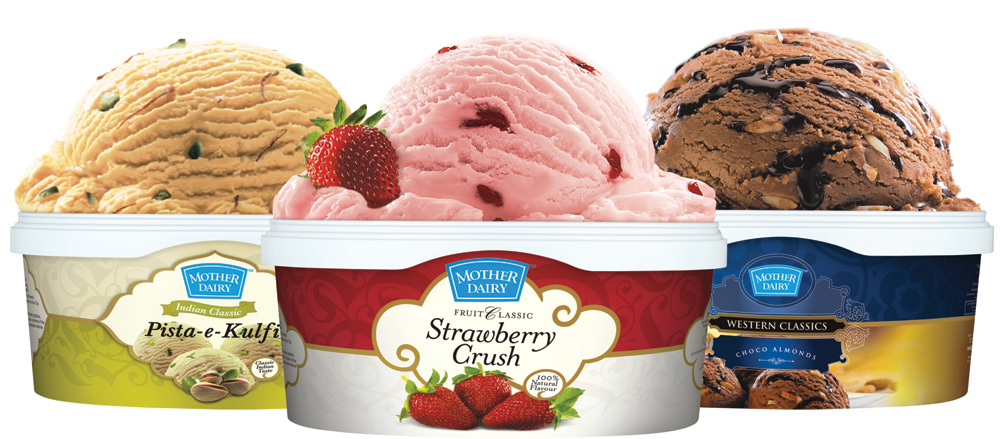Mother_Dairy: (434, 257, 536, 308), (176, 262, 253, 303), (743, 262, 810, 304)
